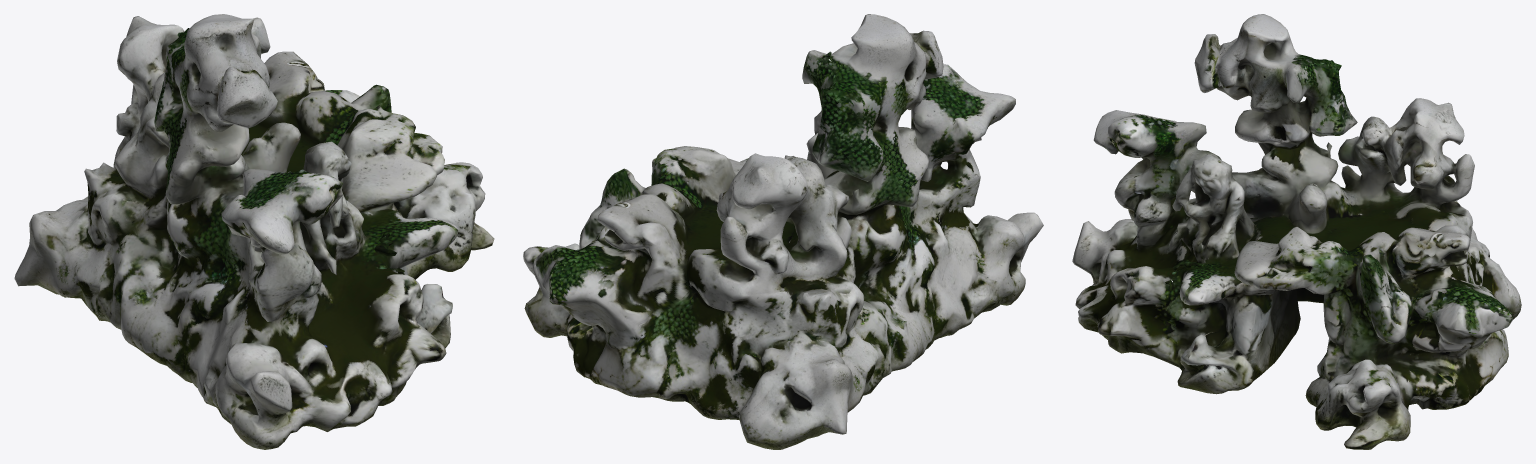
The model's file is cuizhang.glb.
The picture shows the model from 3 angles, left to right: view 1: azimuth 30°, elevation 25°; view 2: azimuth 150°, elevation 25°; view 3: azimuth 270°, elevation 25°; orthographic projection. The views are drawn at different scales.
Visible parts, largest first — view 1: tripo_node_8e40b0bb-da83-4245-8116-1395bd33499f; view 2: tripo_node_8e40b0bb-da83-4245-8116-1395bd33499f; view 3: tripo_node_8e40b0bb-da83-4245-8116-1395bd33499f.
Boxes of the visible parts, x1,y1,x2,y2 form: tripo_node_8e40b0bb-da83-4245-8116-1395bd33499f: [14, 14, 494, 449]; tripo_node_8e40b0bb-da83-4245-8116-1395bd33499f: [523, 14, 1043, 449]; tripo_node_8e40b0bb-da83-4245-8116-1395bd33499f: [1072, 14, 1521, 449].
Bounding box in the file's own units: 0.8984 × 0.7519 × 1.
1 material, 1 textured.
